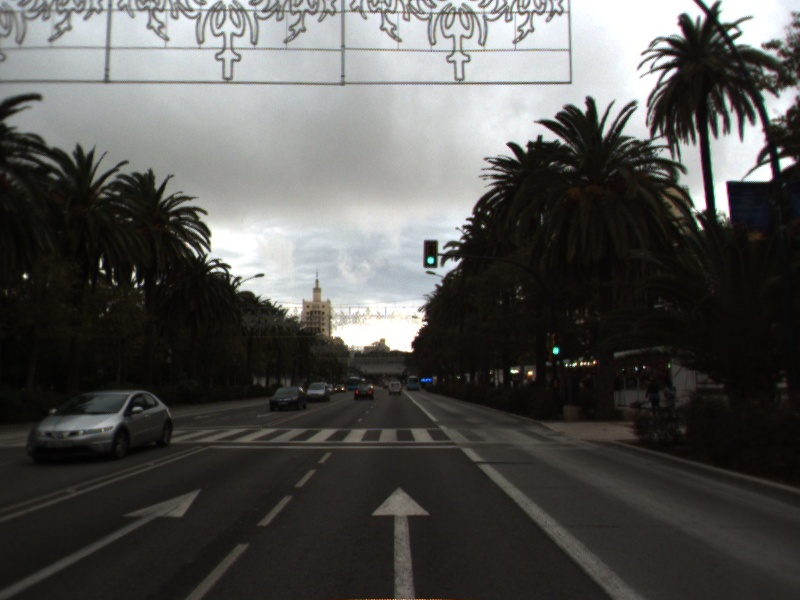STRAIGHT: (1, 486, 205, 600), (369, 484, 433, 600)
